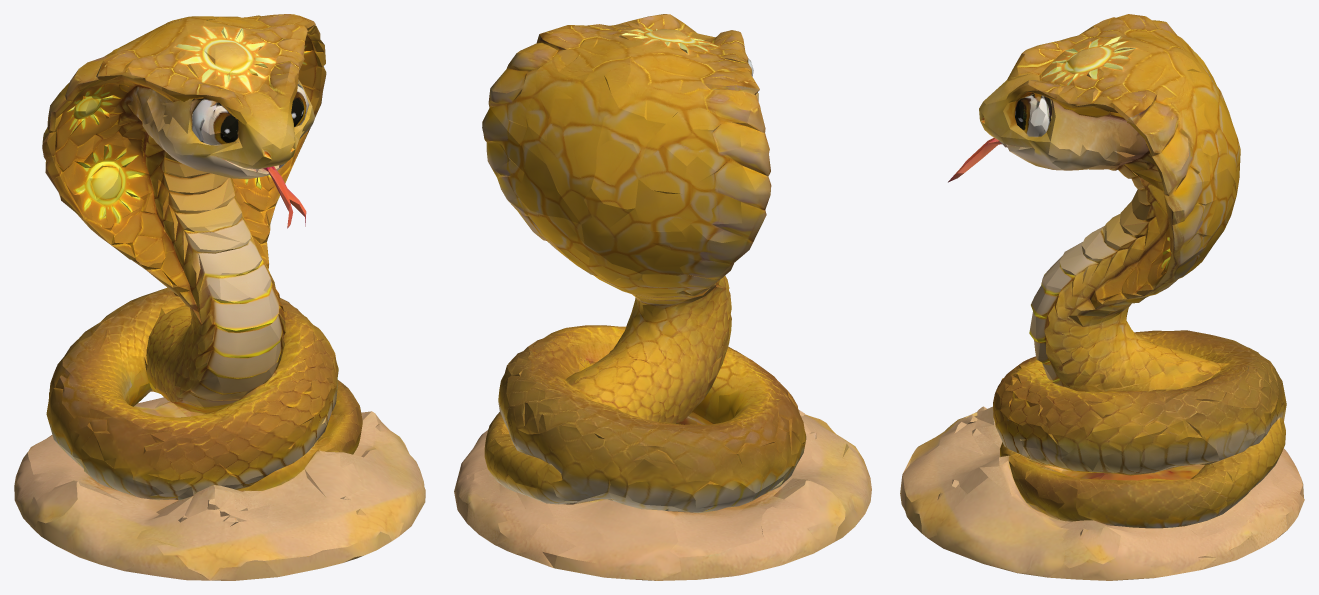
The model's file is sandcobra.glb.
3 renders of one model, left to right at view 1: azimuth 30°, elevation 25°; view 2: azimuth 150°, elevation 25°; view 3: azimuth 270°, elevation 25°, orthographic. The views are drawn at different scales.
Bounding box in the file's own units: 1.54 × 1.9 × 1.55.
1 material, 1 textured.
